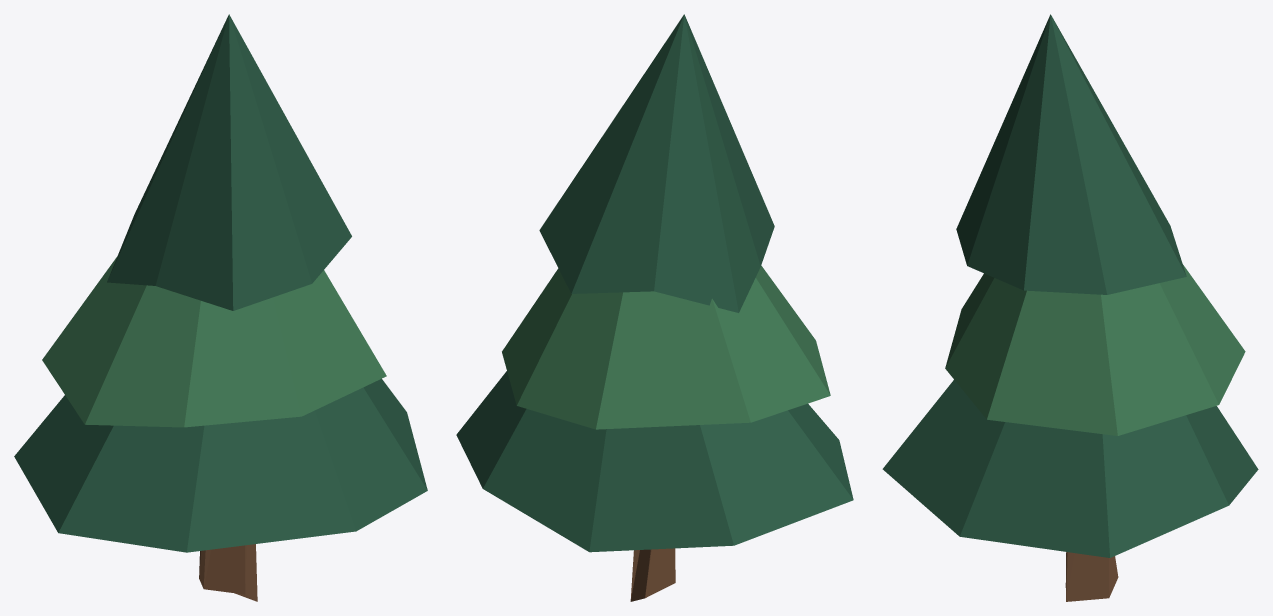
File: world_tree_conifer_m.obj
3 views of the same model, side by side, from view 1: azimuth 30°, elevation 25°; view 2: azimuth 150°, elevation 25°; view 3: azimuth 270°, elevation 25° (orthographic). The views are drawn at different scales.
Visible parts, largest first — view 1: world_tree_conifer_m; view 2: world_tree_conifer_m; view 3: world_tree_conifer_m.
Boxes of the visible parts, left/top/right/bottom form: world_tree_conifer_m: left=14, top=14, right=427, bottom=601; world_tree_conifer_m: left=456, top=14, right=853, bottom=601; world_tree_conifer_m: left=882, top=14, right=1258, bottom=601.
Size of the model in its own units: 11.27 by 16.94 by 10.09.
